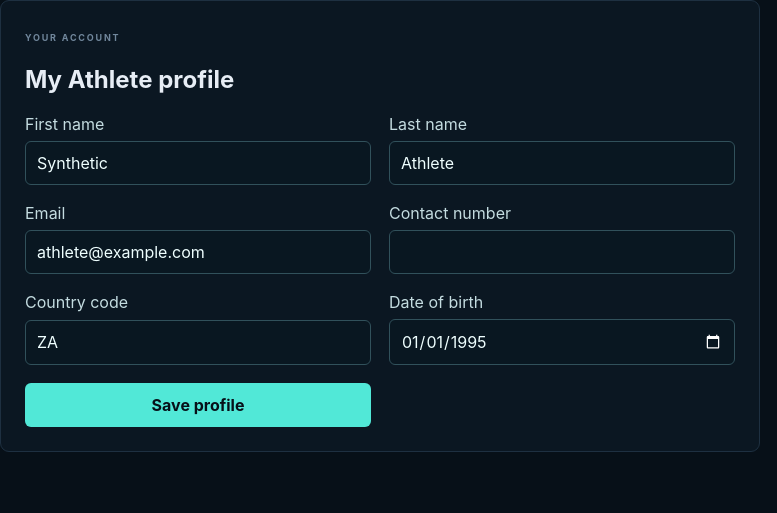
AthleteProfilePage › loads and saves the current Athlete's details
This screenshot has width=777, height=513.
Expected: the heading "My Athlete profile" is shown, [25,65,234,94]
Replace the text in the field labelled "First name" with "Updated". click: [198, 163]
box: [25,141,371,185]
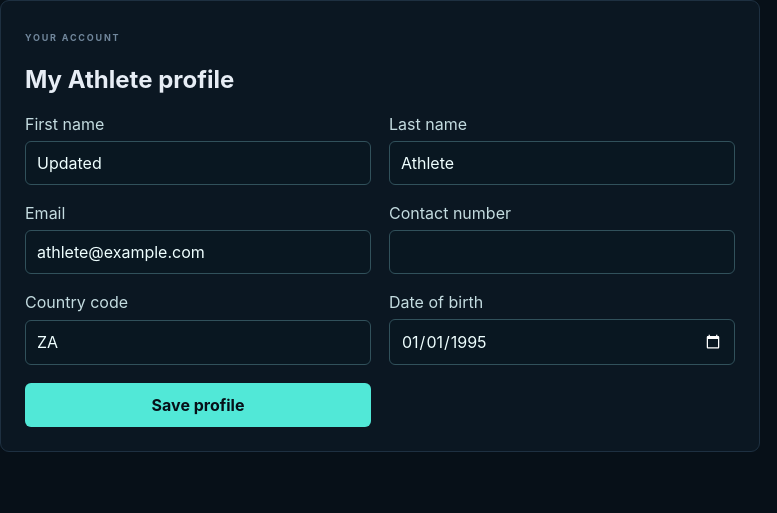
Click the button "Save profile". click: [198, 405]
box: [25,383,371,427]
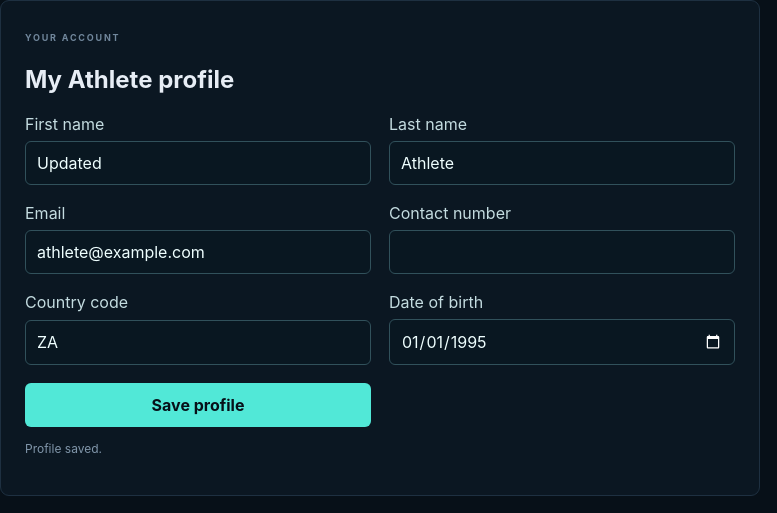
Now the text "Profile saved." is shown, box [25,441,102,456]
